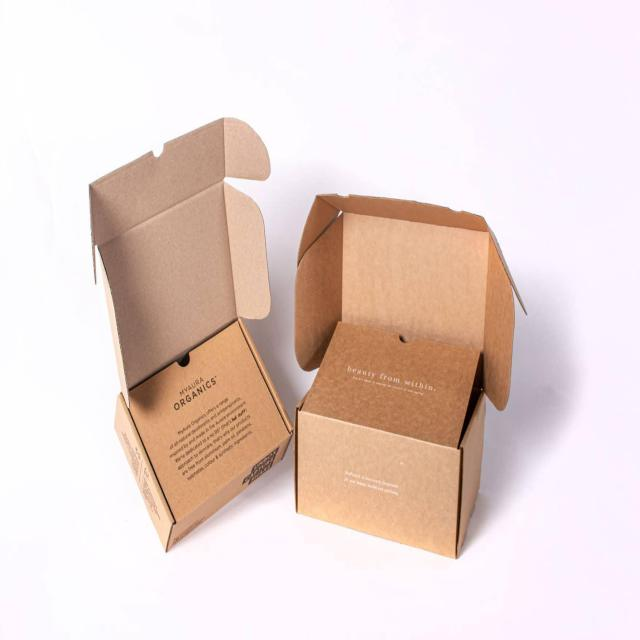Garbage: (89, 115, 292, 554), (296, 178, 527, 560)
